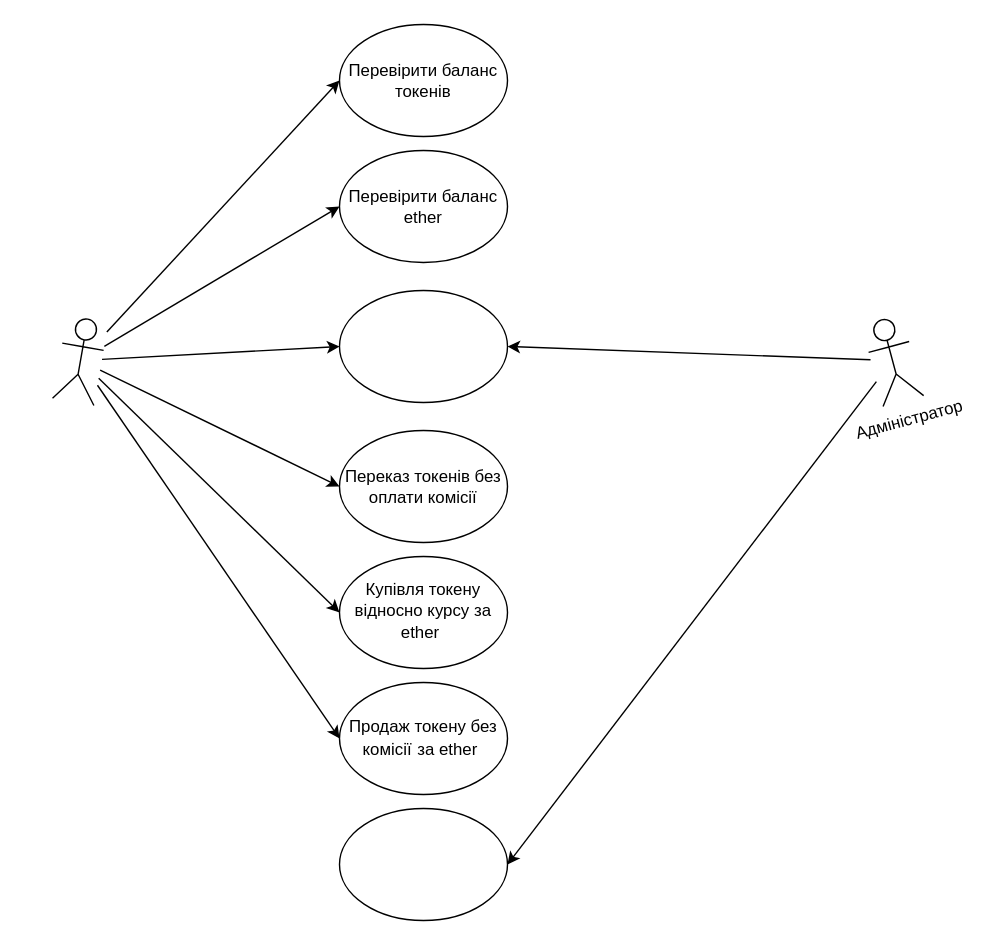
Image size: 988x945. Some labels were removed from this diagram. Here are the shapes that lost their labels. From the top down, the box of each, then its label:
(51, 314, 108, 406): Користувач
(338, 289, 507, 402): Перегляд журналу транзакцій
(338, 807, 507, 920): Встановлення курсу обміну
